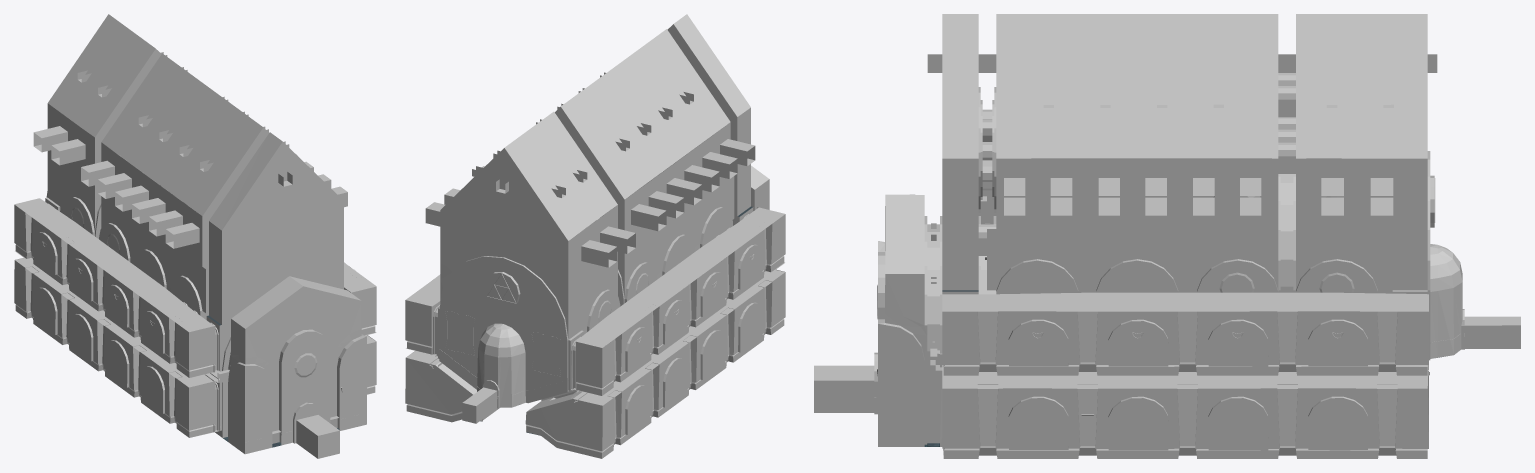
The model's file is hyrule.dae.
3 views of the same model, side by side, from view 1: azimuth 30°, elevation 25°; view 2: azimuth 150°, elevation 25°; view 3: azimuth 270°, elevation 25° (orthographic). The views are drawn at different scales.
Parts seen in each view (by area): view 1: n1b8, n24b3, n11b9, n4b7, n14b15, n12b23, n23b24, n20b10, n25b16, n16b12, n22b17, n19b11 (+2 smaller); view 2: n1b8, n24b3, n4b7, n23b24, n14b15, n12b23, n11b9, n20b10, n19b11, n13b18, n22b17, n25b16 (+3 smaller); view 3: n24b3, n1b8, n12b23, n11b9, n14b15, n4b7, n23b24, n19b11, n20b10, n13b18, n22b17, n25b16 (+3 smaller).
Boxes of the visible parts, box(x1,y1,x2,y2) form: n1b8: box(33, 49, 361, 458); n24b3: box(48, 14, 360, 365); n11b9: box(34, 232, 366, 454); n4b7: box(14, 198, 376, 444); n14b15: box(45, 154, 350, 389); n12b23: box(25, 213, 182, 416); n23b24: box(14, 198, 376, 430); n20b10: box(46, 130, 366, 443); n25b16: box(77, 52, 342, 392); n16b12: box(95, 169, 230, 437); n22b17: box(71, 172, 317, 377); n19b11: box(46, 126, 262, 436); n1b8: box(425, 24, 769, 423); n24b3: box(504, 14, 768, 240); n4b7: box(406, 207, 784, 458); n23b24: box(405, 207, 785, 451); n14b15: box(431, 145, 753, 423); n12b23: box(607, 224, 772, 437); n11b9: box(482, 245, 762, 434); n20b10: box(438, 209, 769, 404); n19b11: box(440, 140, 705, 403); n13b18: box(477, 349, 521, 408); n22b17: box(447, 272, 648, 372); n25b16: box(472, 72, 693, 197); n24b3: box(885, 14, 1427, 342); n1b8: box(814, 73, 1520, 412); n12b23: box(977, 311, 1397, 448); n11b9: box(878, 321, 1367, 450); n14b15: box(942, 158, 1442, 295); n4b7: box(874, 196, 1464, 458); n23b24: box(942, 311, 1428, 448); n19b11: box(924, 100, 1462, 443); n20b10: box(874, 109, 1437, 444); n13b18: box(1438, 282, 1464, 357); n22b17: box(877, 175, 1435, 319); n25b16: box(877, 54, 1437, 375).
Bounding box in the file's own units: 123 × 281 × 172.
